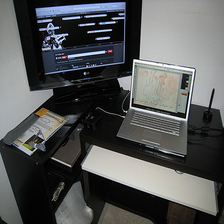laptop: (97, 58, 207, 156)
